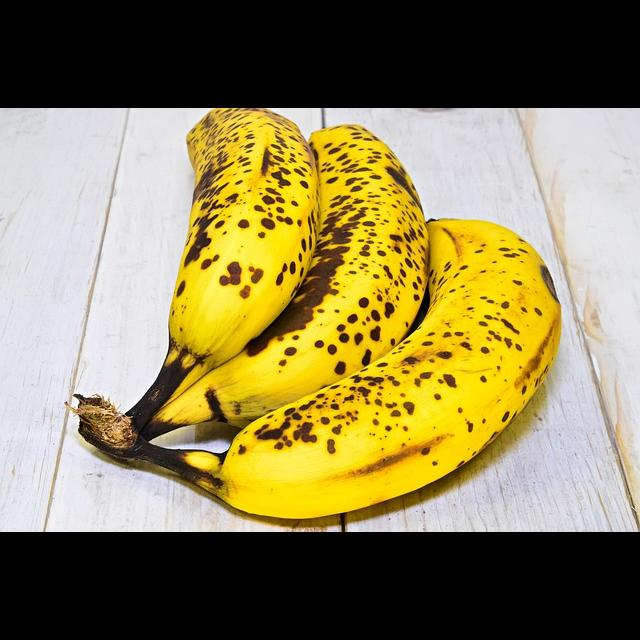banana: (210, 185, 564, 529), (180, 114, 444, 441), (158, 82, 296, 384)
